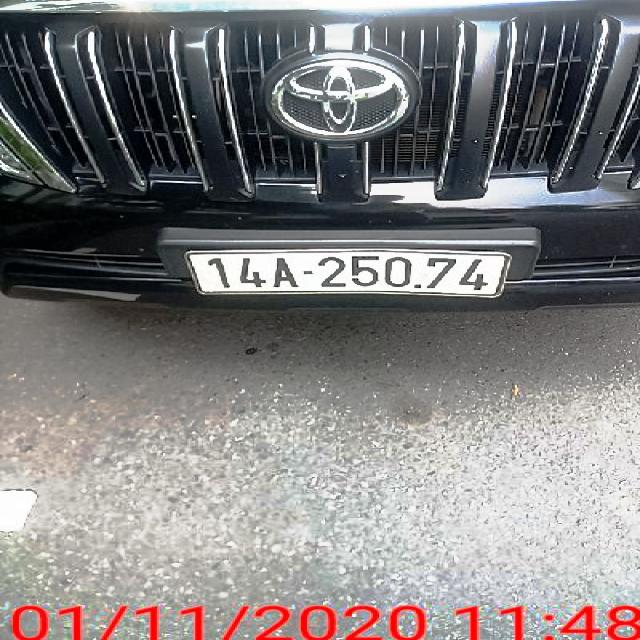license_plate: (186, 252, 512, 298)
